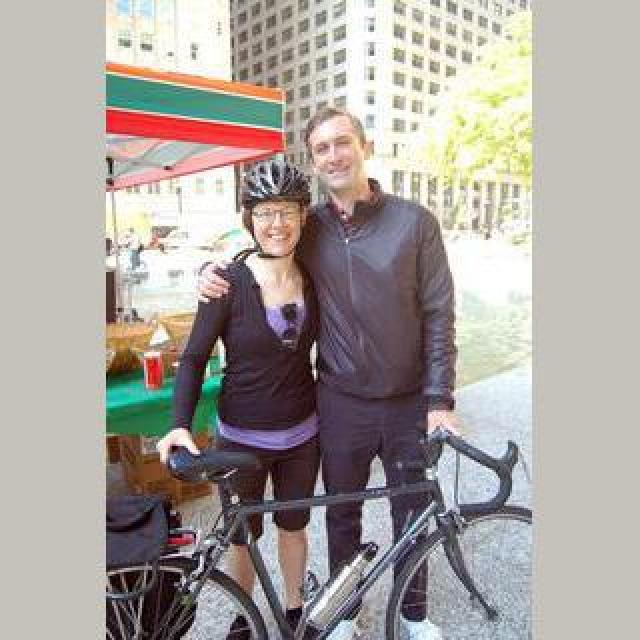MC-Bike: (296, 102, 486, 636), (170, 148, 326, 640)
Person: (114, 406, 532, 640)
